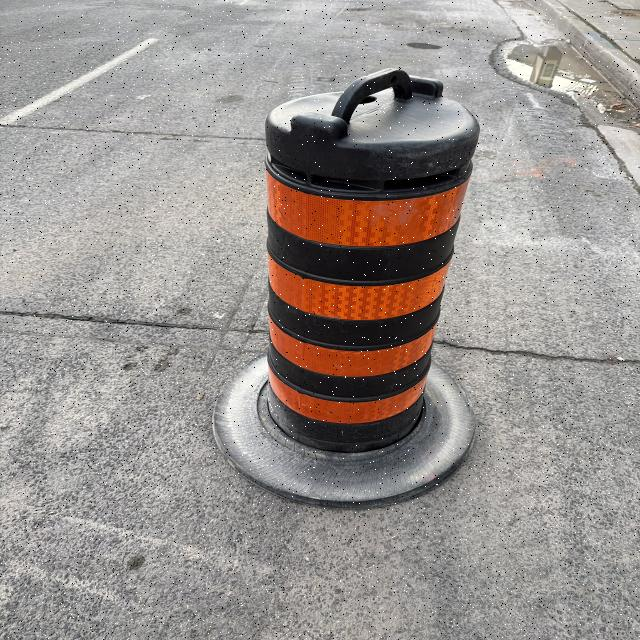Teraffic Barrel: (215, 69, 479, 506)
